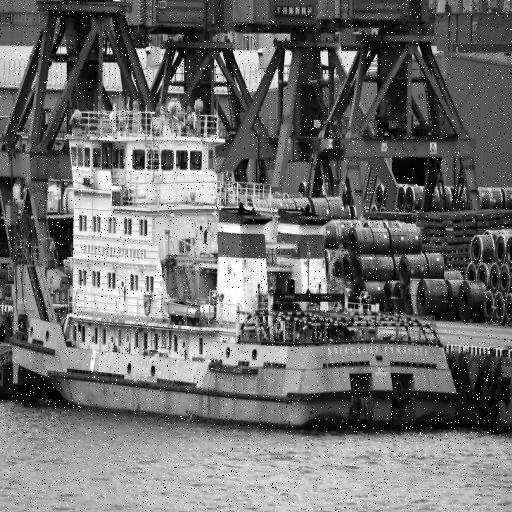tugboat: (5, 88, 467, 445)
